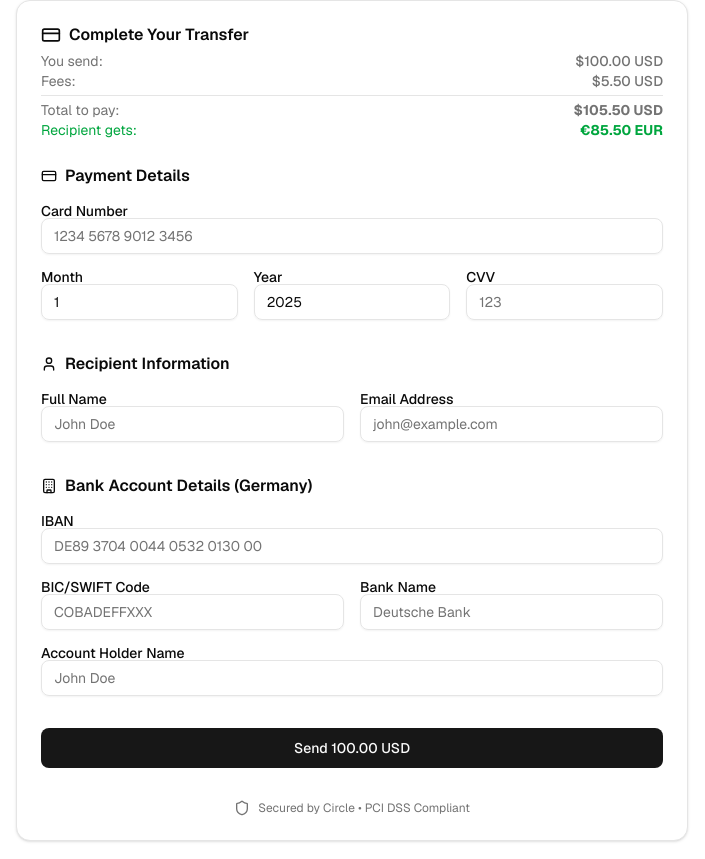
Test: PaymentForm › limits CVV input to numbers only
This screenshot has width=705, height=859.
Type "abc123def" into the field labelled "CVV" at point(565, 302), box [466, 284, 663, 320]
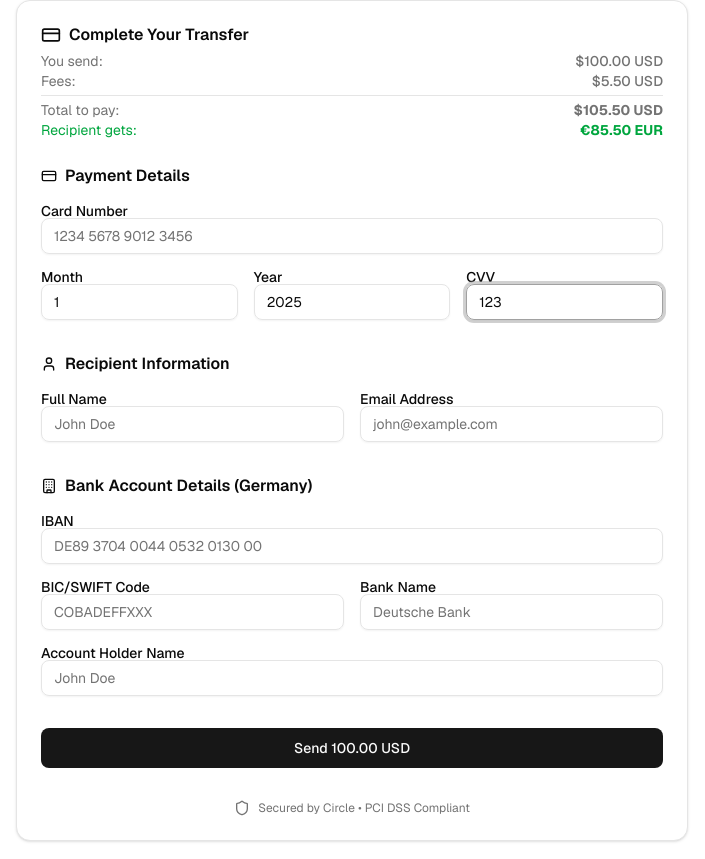
expect the field labelled "CVV" holds "123": met, box [466, 284, 663, 320]
